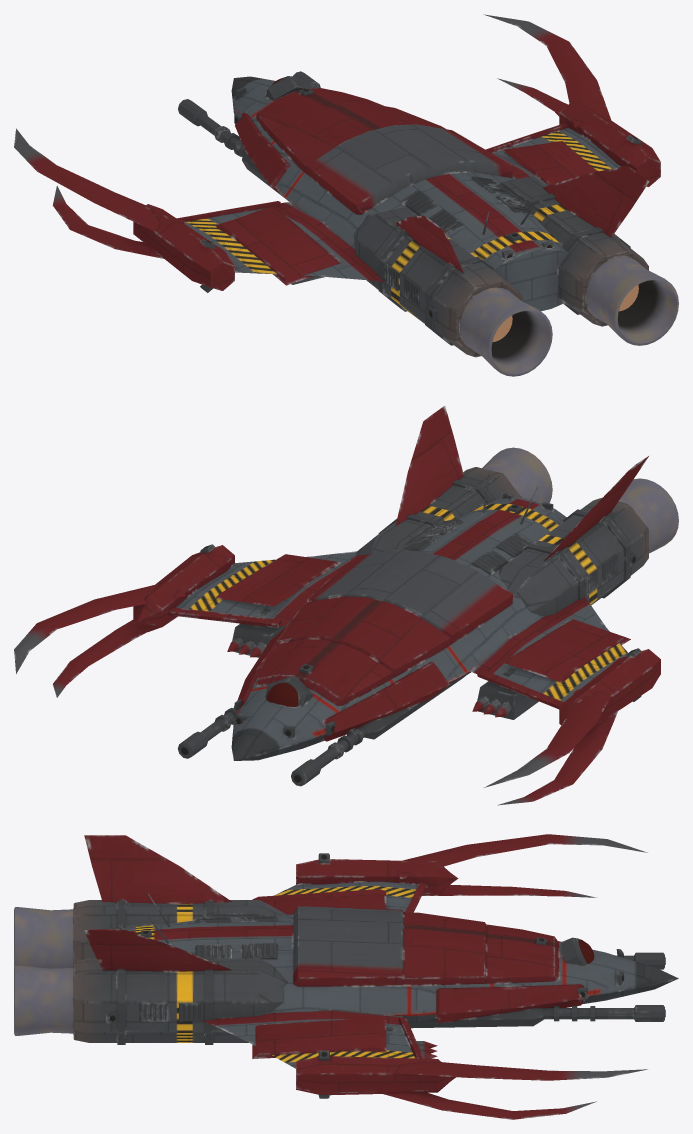
The model's file is talon.glb.
3 views of the same model, one above another, from view 1: azimuth 30°, elevation 25°; view 2: azimuth 150°, elevation 25°; view 3: azimuth 270°, elevation 25° (orthographic). The views are drawn at different scales.
Visible parts, largest first — view 1: hull; view 2: hull; view 3: hull.
Boxes of the visible parts, bbox=[...] form: hull: bbox=[14, 14, 678, 376]; hull: bbox=[14, 406, 678, 805]; hull: bbox=[14, 834, 678, 1119].
Bounding box in the file's own units: 11.3 × 3.43 × 12.88.
Materials: 1 (1 with a texture image).
